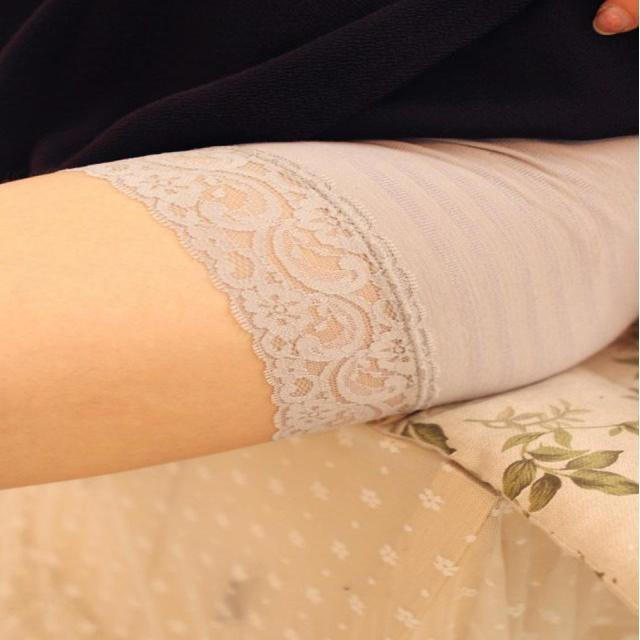shorts: (7, 25, 638, 443)
